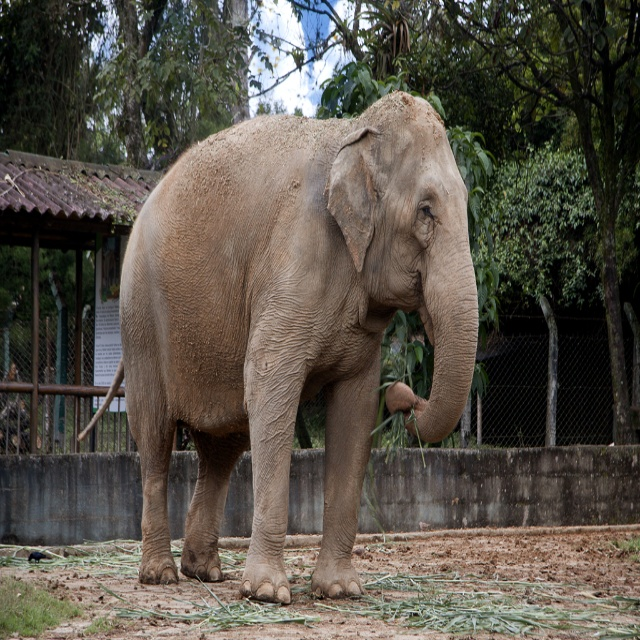Elephant: (108, 93, 486, 612)
